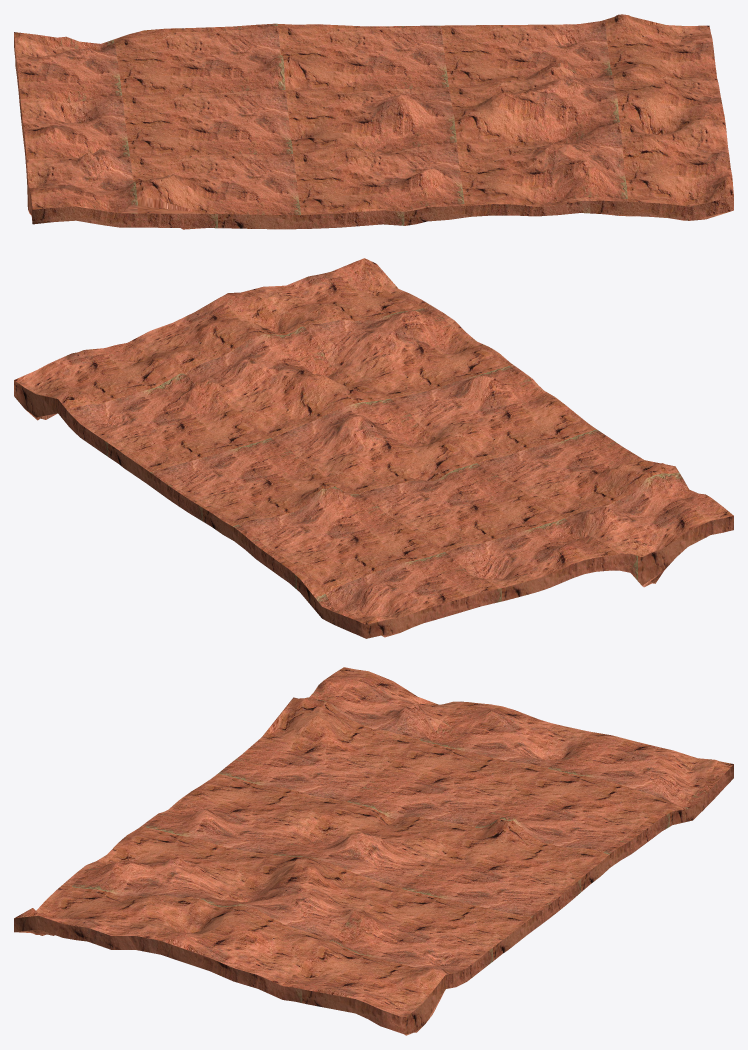
3 renders of one model, top to bottom at view 1: azimuth 30°, elevation 25°; view 2: azimuth 150°, elevation 25°; view 3: azimuth 270°, elevation 25°, orthographic. The views are drawn at different scales.
Parts seen in each view (by area): view 1: K; view 2: K; view 3: K.
Part boxes in pixels (left/top/right/bottom): K: left=14, top=14, right=733, bottom=229; K: left=14, top=258, right=733, bottom=638; K: left=14, top=667, right=733, bottom=1035.
Bounding box in the file's own units: 11149 × 1070 × 9970.
Materials: 1 (1 with a texture image).
